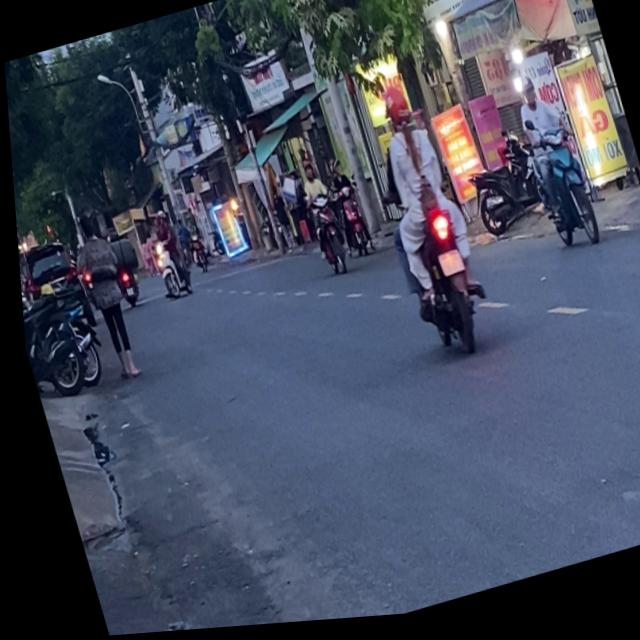helmet: (377, 88, 413, 135), (514, 78, 538, 114)
licenseplate: (348, 76, 497, 372), (501, 68, 601, 265)
nohelmet: (432, 253, 459, 281)
